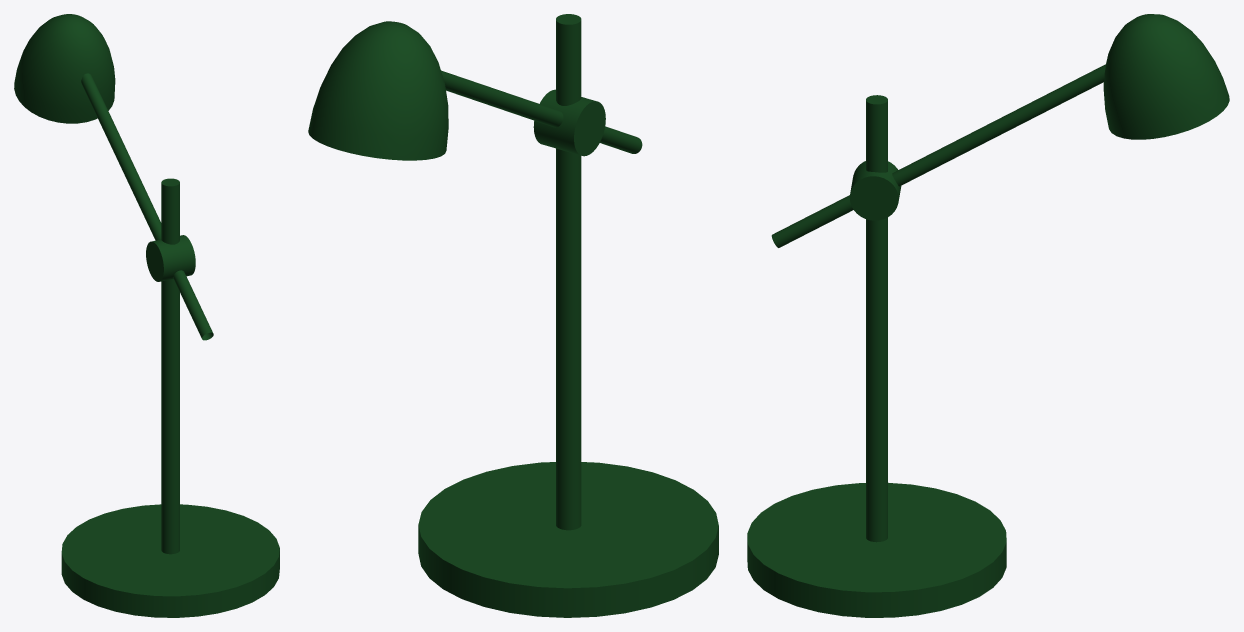
File: standingLamp.glb
3 renders of one model, left to right at view 1: azimuth 30°, elevation 25°; view 2: azimuth 150°, elevation 25°; view 3: azimuth 270°, elevation 25°, orthographic. The views are drawn at different scales.
Visible parts, largest first — view 1: StandingLamp, StandingLamp3, StandingLamp1, StandingLamp2; view 2: StandingLamp, StandingLamp3, StandingLamp2, StandingLamp1; view 3: StandingLamp, StandingLamp3, StandingLamp1, StandingLamp2.
Part boxes in pixels (x1,y1,x2,y2): StandingLamp: (61,178,279,617); StandingLamp3: (14,14,115,123); StandingLamp1: (81,73,213,340); StandingLamp2: (146,235,195,281); StandingLamp: (418,14,718,617); StandingLamp3: (308,21,448,160); StandingLamp2: (533,89,605,156); StandingLamp1: (441,70,642,153); StandingLamp: (747,95,1006,617); StandingLamp3: (1103,14,1229,139); StandingLamp1: (771,64,1105,247); StandingLamp2: (849,161,901,220).
Bounding box in the file's own units: 0.7571 × 1.79 × 1.41.
